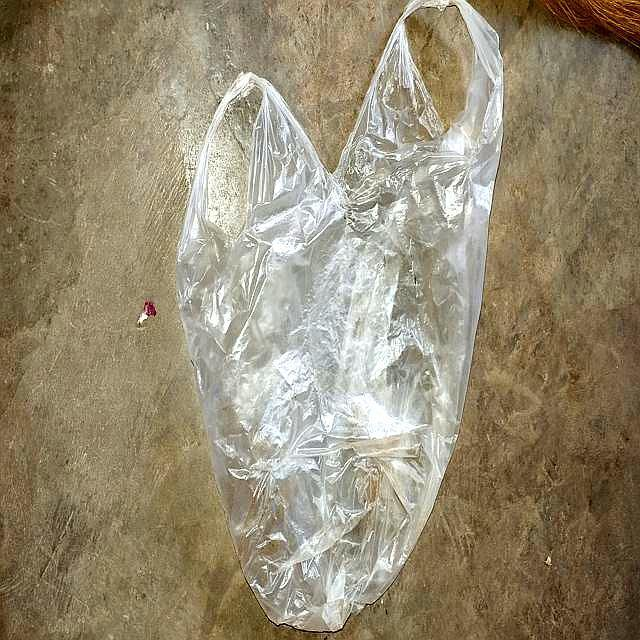Non-biodegradable: (173, 2, 508, 633)
